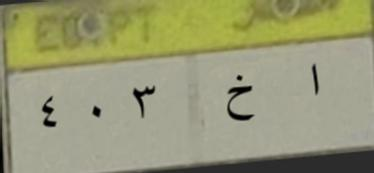0: (82, 93, 110, 135)
3: (126, 78, 162, 124)
4: (32, 88, 65, 136)
alif: (296, 55, 330, 105)
khaa: (220, 70, 258, 130)
